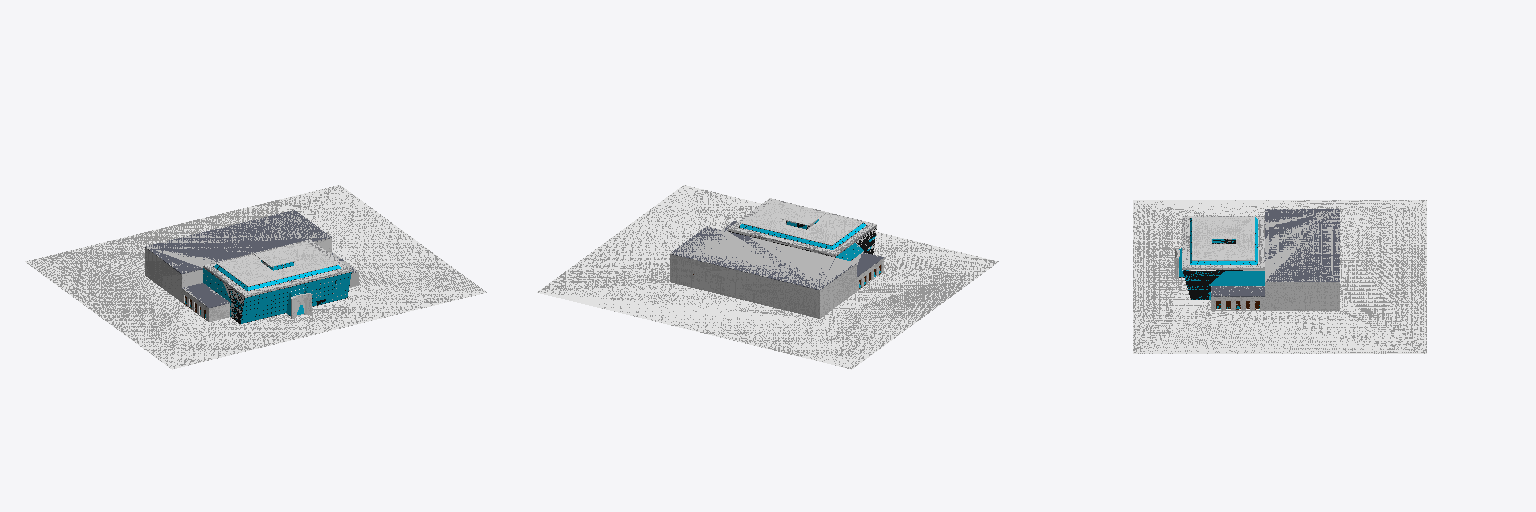
The model's file is showroom_moje_textury_zmensene.obj.
3 views of the same model, side by side, from view 1: azimuth 30°, elevation 25°; view 2: azimuth 150°, elevation 25°; view 3: azimuth 270°, elevation 25° (orthographic).
Parts seen in each view (by area): view 1: Mesh167 Model; view 2: Mesh167 Model; view 3: Mesh167 Model.
Part boxes in pixels (x1,y1,x2,y2): Mesh167 Model: (25,185,486,369); Mesh167 Model: (537,185,998,369); Mesh167 Model: (1133,200,1426,353).
Size of the model in its own units: 73.56 by 9.47 by 59.54.